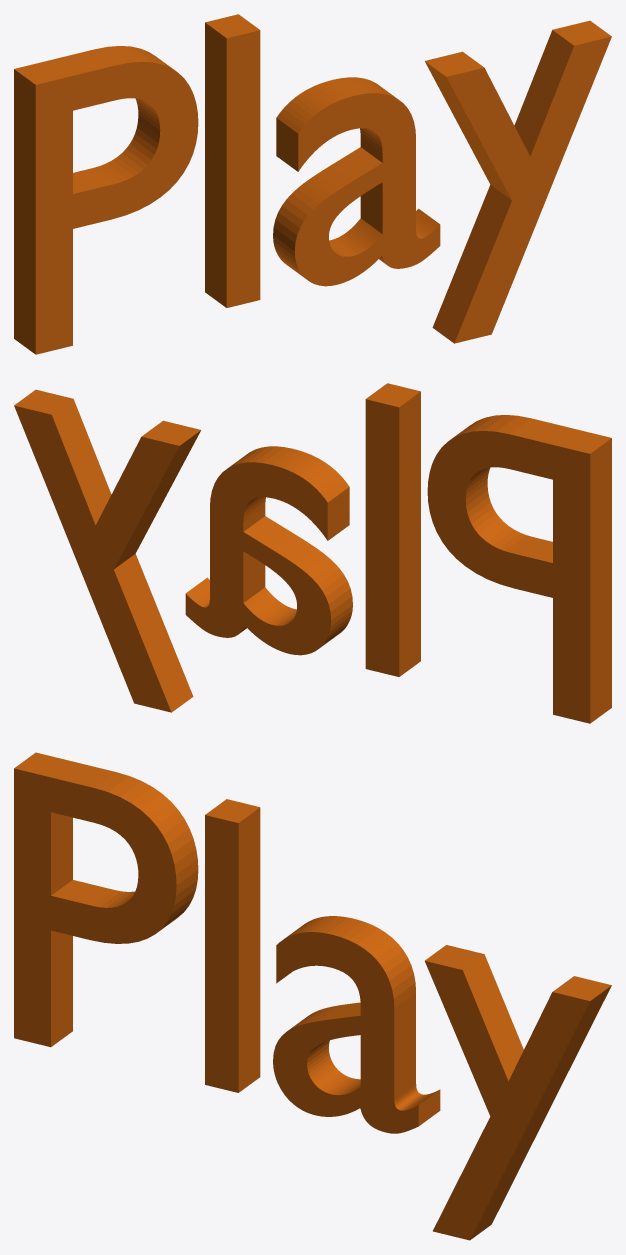
The model's file is Play.obj.
3 views of the same model, one above another, from view 1: azimuth 30°, elevation 25°; view 2: azimuth 150°, elevation 25°; view 3: azimuth 330°, elevation 25° (orthographic).
Visible parts, largest first — view 1: Play_Text; view 2: Play_Text; view 3: Play_Text.
Part boxes in pixels (x1=…): Play_Text: x1=14, y1=14, x2=611, y2=354; Play_Text: x1=14, y1=383, x2=611, y2=723; Play_Text: x1=14, y1=752, x2=611, y2=1240.
Bounding box in the file's own units: 1.52 × 0.912 × 0.1.
